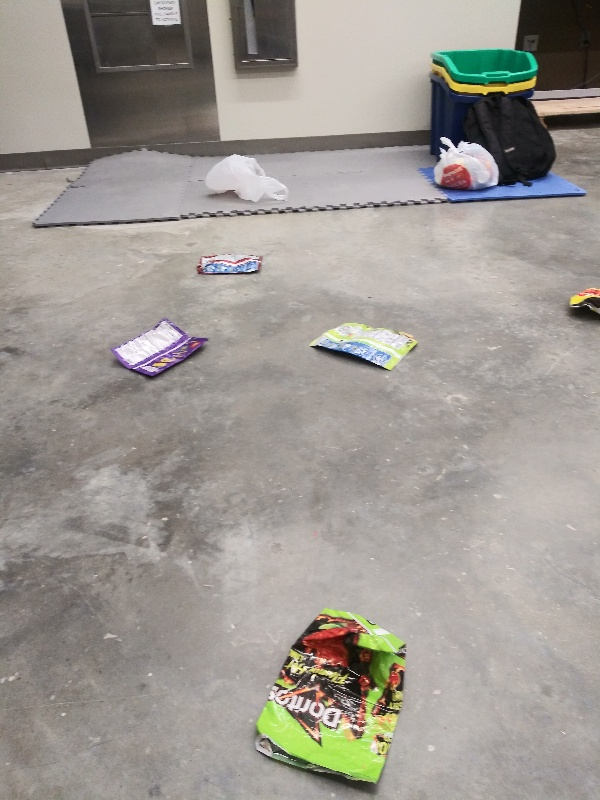bag: (249, 604, 410, 792), (105, 316, 213, 383), (301, 318, 419, 376), (194, 250, 269, 280), (562, 288, 600, 317)
